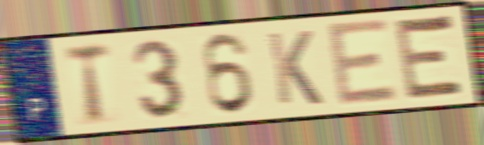3: (131, 36, 190, 122)
6: (200, 31, 257, 117)
E: (324, 17, 402, 111), (393, 12, 469, 104)
K: (264, 28, 326, 108)
T: (62, 40, 114, 128)
